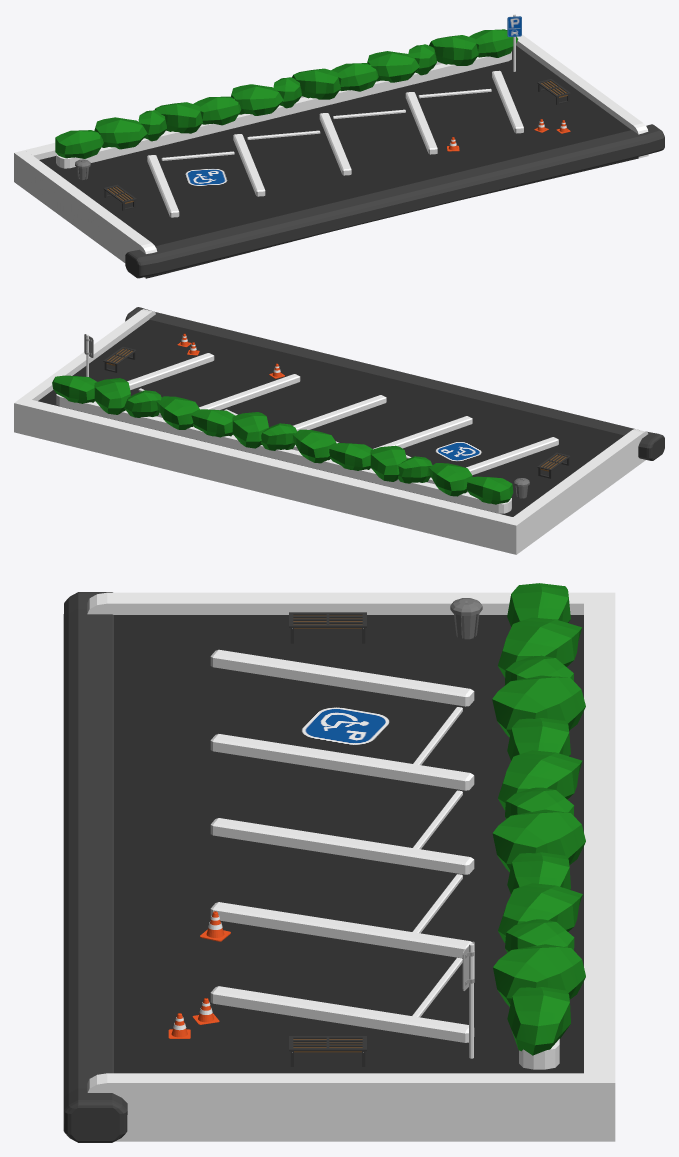
File: baseLevel.glb
3 views of the same model, one above another, from view 1: azimuth 30°, elevation 25°; view 2: azimuth 150°, elevation 25°; view 3: azimuth 270°, elevation 25° (orthographic). The views are drawn at different scales.
Visible parts, largest first — view 1: Plane.001, Cube.002, Cube.009, Cube.003, Cube, Cube.001, Cube.011, Cube.007; view 2: Plane.001, Cube.009, Cube.002, Cube, Cube.003, Cube.011; view 3: Plane.001, Cube.009, Cube.002, Cube, Cube.011, Cube.001, Plane.002, Cube.006, Cube.007.
Part boxes in pixels (left/top/right/bottom): Plane.001: left=14, top=34, right=648, bottom=278; Cube.002: left=125, top=124, right=664, bottom=278; Cube.009: left=55, top=29, right=518, bottom=158; Cube.003: left=56, top=51, right=511, bottom=168; Cube: left=147, top=70, right=523, bottom=217; Cube.001: left=161, top=88, right=491, bottom=160; Cube.011: left=103, top=79, right=570, bottom=210; Cube.007: left=507, top=14, right=521, bottom=71; Plane.001: left=14, top=309, right=648, bottom=554; Cube.009: left=52, top=375, right=513, bottom=504; Cube.002: left=125, top=307, right=664, bottom=460; Cube: left=127, top=353, right=558, bottom=475; Cube.003: left=56, top=394, right=511, bottom=513; Cube.011: left=103, top=347, right=570, bottom=478; Plane.001: left=87, top=592, right=615, bottom=1141; Cube.009: left=492, top=583, right=585, bottom=1055; Cube.002: left=63, top=592, right=127, bottom=1142; Cube: left=210, top=649, right=474, bottom=1042; Cube.011: left=289, top=612, right=366, bottom=1066; Cube.001: left=412, top=707, right=462, bottom=1017; Plane.002: left=168, top=911, right=230, bottom=1038; Cube.006: left=450, top=598, right=482, bottom=639; Cube.007: left=462, top=941, right=474, bottom=1058.
Bounding box in the file's own units: 12.44 × 1.81 × 5.64.
Materials: 19 (2 with a texture image).
